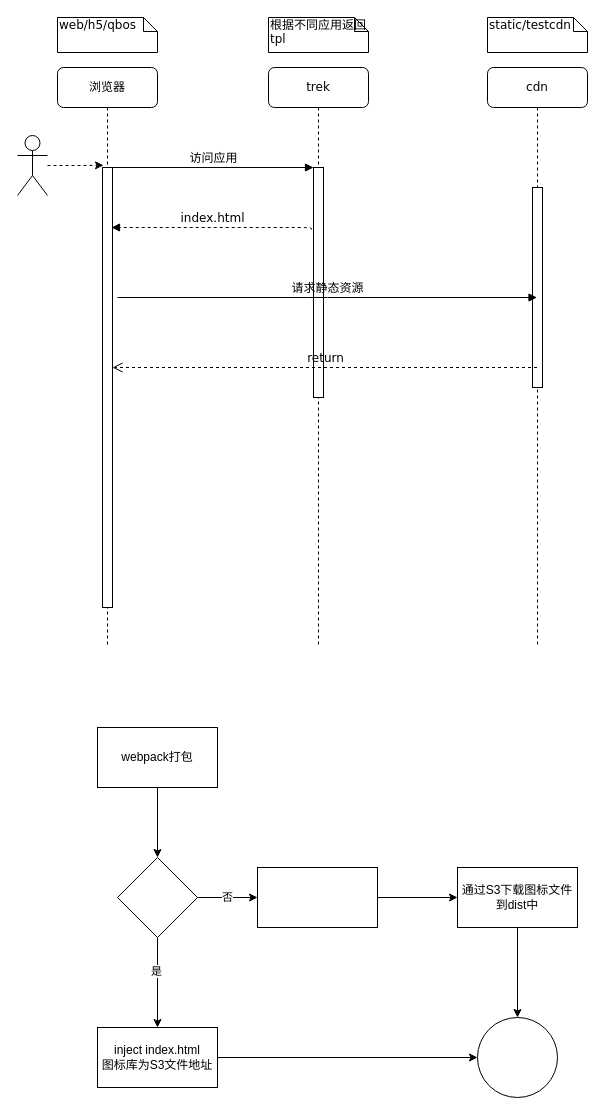
The diagram is 605 pixels wide and 1115 high, and some of its shapes have lost their labels. Each missing label, with the box of its shape:
inject index.html 图标库为dist相对地址: (256, 866, 378, 928)
开发模式: (116, 856, 198, 938)
用户: (16, 134, 48, 196)
结束: (476, 1016, 558, 1098)
